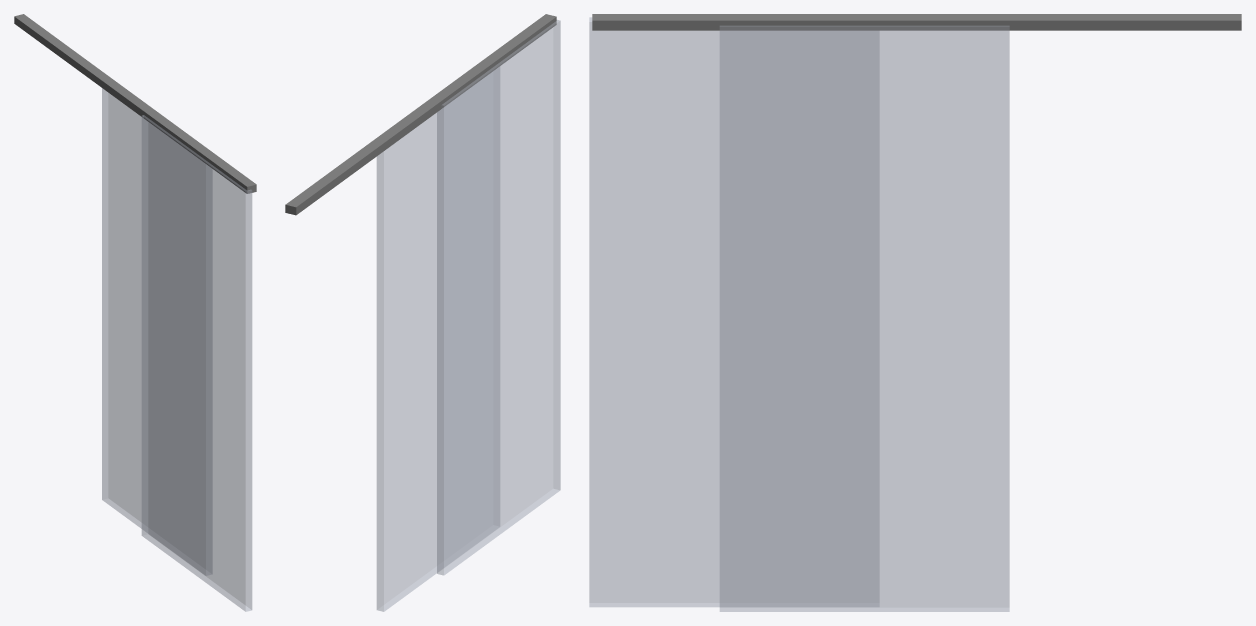
File: BathGlass.fbx
3 renders of one model, left to right at view 1: azimuth 30°, elevation 25°; view 2: azimuth 150°, elevation 25°; view 3: azimuth 270°, elevation 25°, orthographic. The views are drawn at different scales.
Parts seen in each view (by area): view 1: BathGlass; view 2: BathGlass; view 3: BathGlass.
Part boxes in pixels (x1,y1,x2,y2): BathGlass: (14, 14, 256, 611); BathGlass: (285, 14, 560, 611); BathGlass: (589, 14, 1241, 611).
Size of the model in its own units: 9.15 by 275 by 275.
